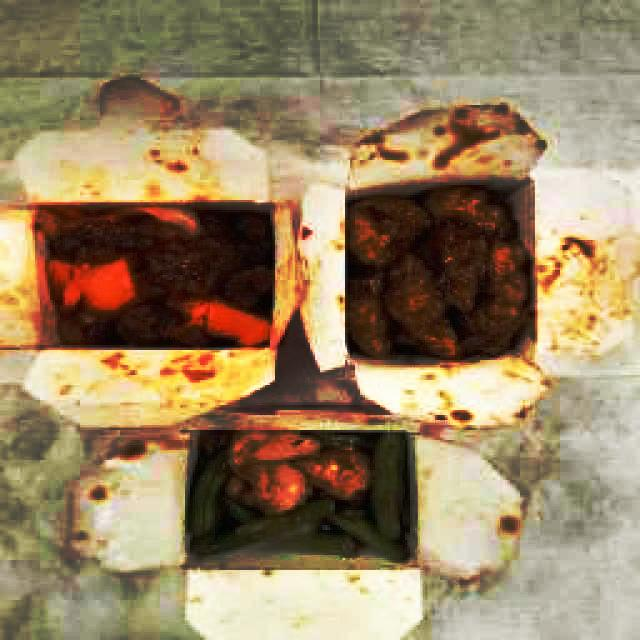Beijing Beef: (30, 198, 275, 347)
Kung Pao Chicken: (344, 182, 535, 362)
String Bean Chicken Breast: (192, 430, 412, 562)
